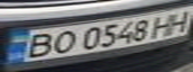0: (78, 24, 103, 52)
4: (118, 19, 139, 44)
5: (100, 21, 121, 47)
8: (130, 16, 154, 42)
B: (18, 30, 57, 60)
H: (148, 11, 178, 38), (163, 8, 193, 34)
O: (45, 28, 78, 55)
